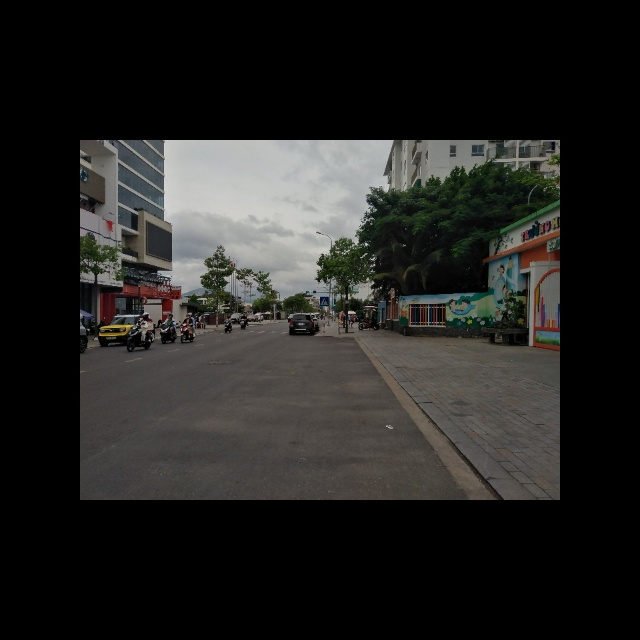Đường dành cho người đi bộ: (319, 296, 328, 306)
